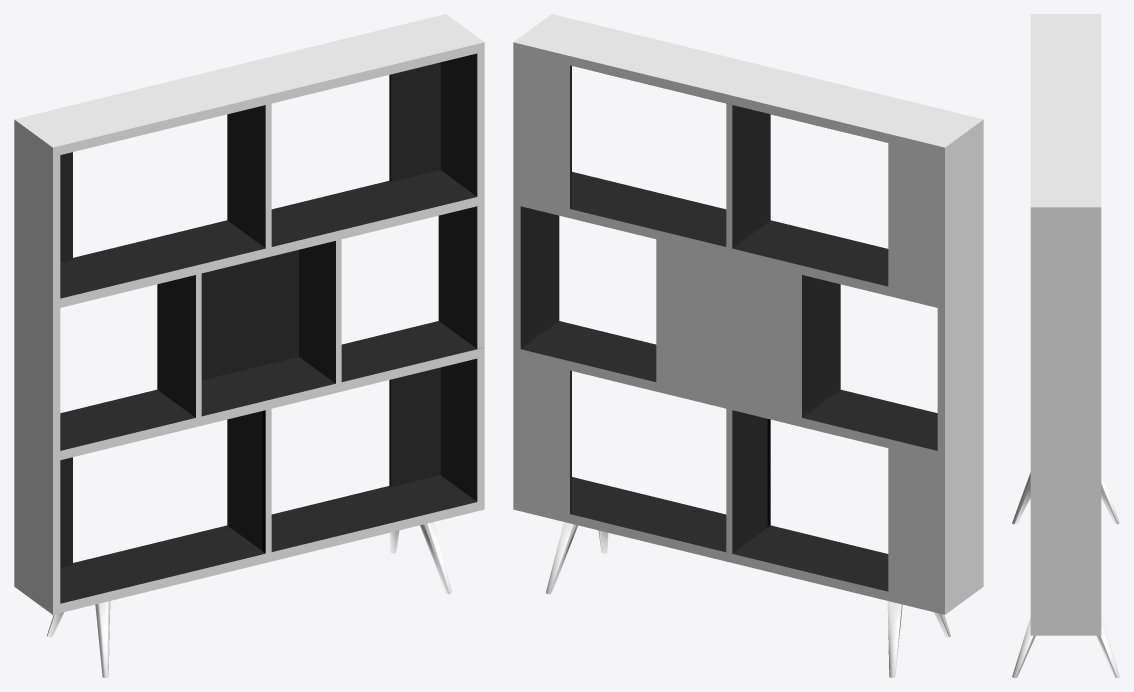
Rendered from Estanteria guayNegrayBlanca.fbx.
3 renders of one model, left to right at view 1: azimuth 30°, elevation 25°; view 2: azimuth 150°, elevation 25°; view 3: azimuth 270°, elevation 25°, orthographic. The views are drawn at different scales.
Parts seen in each view (by area): view 1: estantes; view 2: estantes; view 3: estantes.
Part boxes in pixels (<box>): estantes: <box>14,14,484,677</box>; estantes: <box>513,14,983,677</box>; estantes: <box>1012,14,1119,677</box>.
Size of the model in its own units: 184 by 217 by 43.33.
